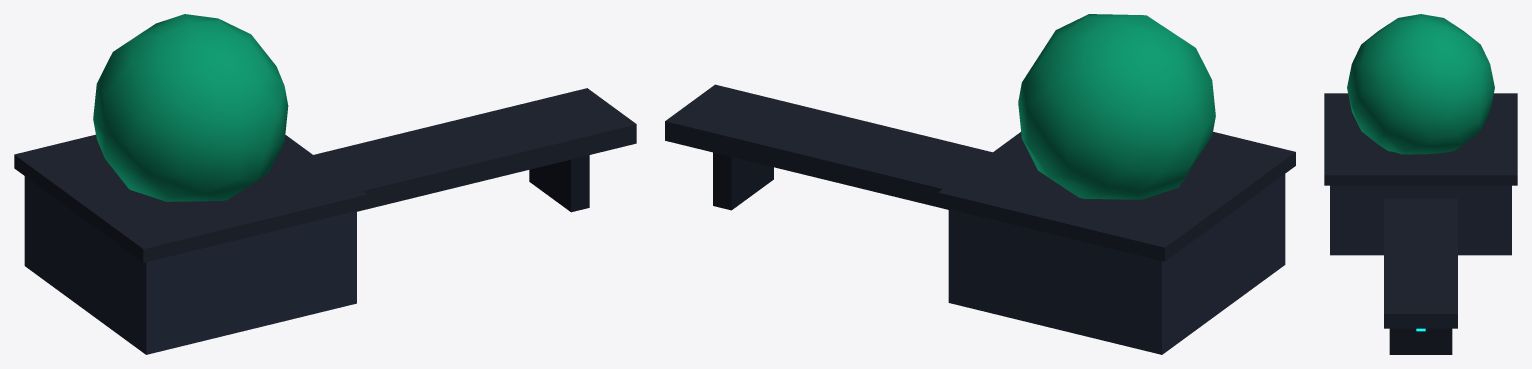
File: prop_bench_planter.glb
The picture shows the model from 3 angles, left to right: view 1: azimuth 30°, elevation 25°; view 2: azimuth 150°, elevation 25°; view 3: azimuth 270°, elevation 25°; orthographic projection. The views are drawn at different scales.
Visible parts, largest first — view 1: PropBenchPlanter; view 2: PropBenchPlanter; view 3: PropBenchPlanter.
Boxes of the visible parts, bbox=[...] form: PropBenchPlanter: bbox=[14, 14, 636, 354]; PropBenchPlanter: bbox=[665, 14, 1295, 354]; PropBenchPlanter: bbox=[1324, 14, 1517, 354].
Size of the model in its own units: 4.05 by 1.9 by 1.7.
